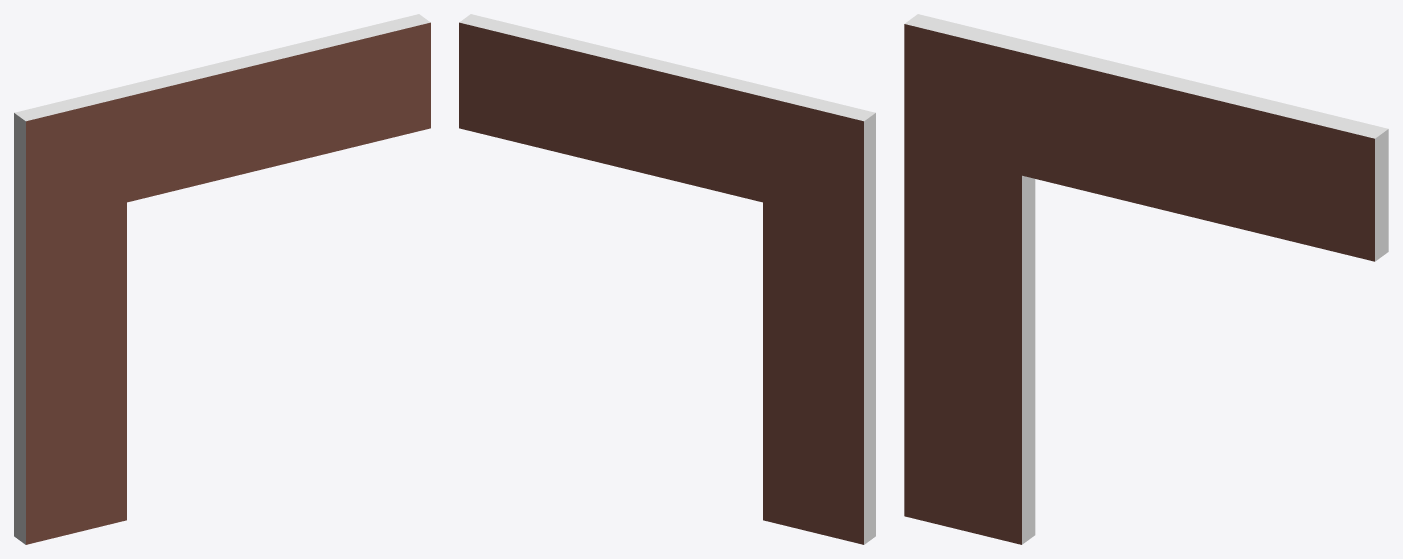
The model's file is Walls_018.glb.
3 renders of one model, left to right at view 1: azimuth 30°, elevation 25°; view 2: azimuth 150°, elevation 25°; view 3: azimuth 330°, elevation 25°, orthographic. The views are drawn at different scales.
Parts seen in each view (by area): view 1: Walls_018; view 2: Walls_018; view 3: Walls_018.
Part boxes in pixels (box(x1,y1,x2,y2)): Walls_018: box(14, 14, 430, 544); Walls_018: box(459, 14, 875, 544); Walls_018: box(904, 14, 1388, 544).
Size of the model in its own units: 4 by 4 by 0.2.
1 material, 1 textured.
